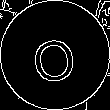O_N: (29, 26, 81, 84)
